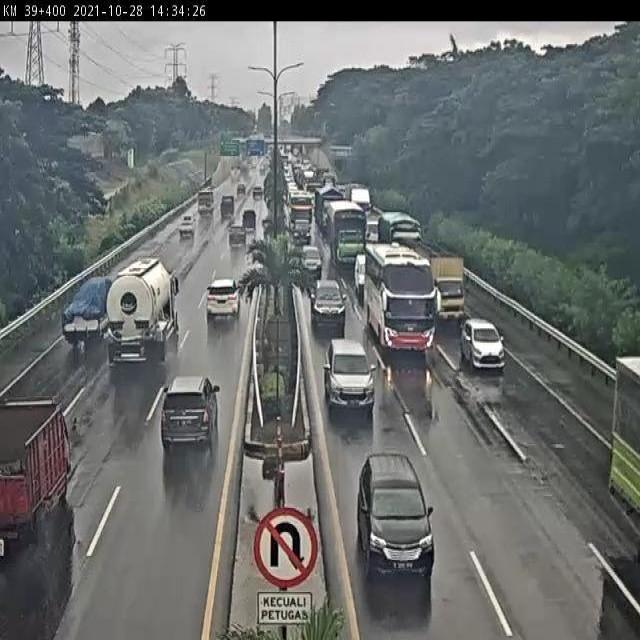big bus: (361, 242, 439, 358)
big truck: (106, 256, 179, 363), (63, 275, 116, 348), (423, 247, 467, 321), (325, 203, 365, 268), (378, 208, 425, 248)
car: (357, 453, 438, 580), (160, 375, 221, 449), (322, 334, 377, 414), (458, 316, 508, 373), (308, 278, 348, 334), (204, 277, 244, 323), (297, 244, 323, 279), (353, 253, 370, 291), (177, 212, 198, 239), (227, 220, 248, 247)
small truck: (0, 392, 73, 551)
